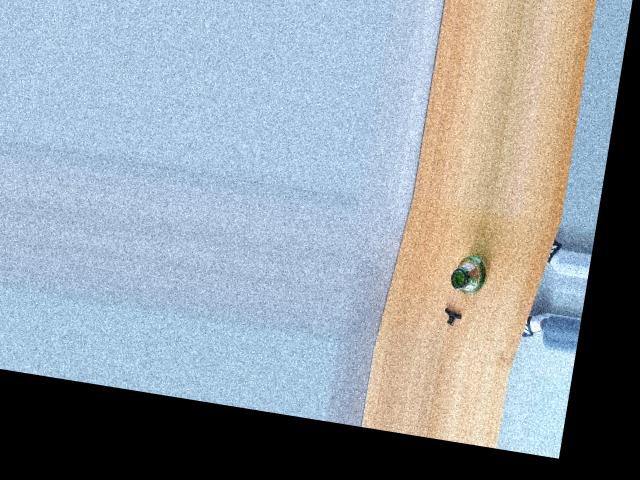beer: (449, 252, 492, 298)
